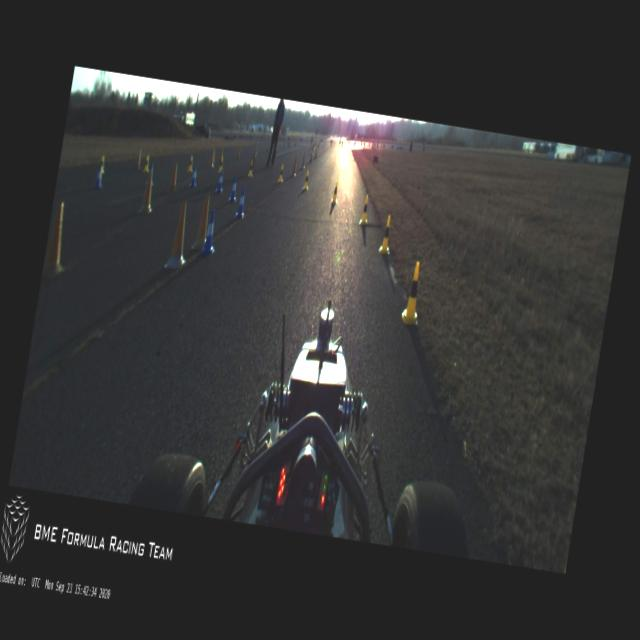blue_cone: (200, 208, 220, 259), (235, 184, 248, 220), (228, 176, 240, 203), (215, 168, 226, 194), (94, 165, 105, 190), (146, 162, 157, 186), (189, 164, 199, 190)
yellow_cone: (400, 262, 427, 328), (378, 214, 395, 257), (358, 194, 372, 226), (330, 181, 340, 206), (301, 169, 311, 191), (277, 162, 286, 184), (142, 154, 152, 173), (187, 154, 195, 173), (99, 154, 107, 173), (218, 154, 225, 173), (248, 160, 255, 178)
